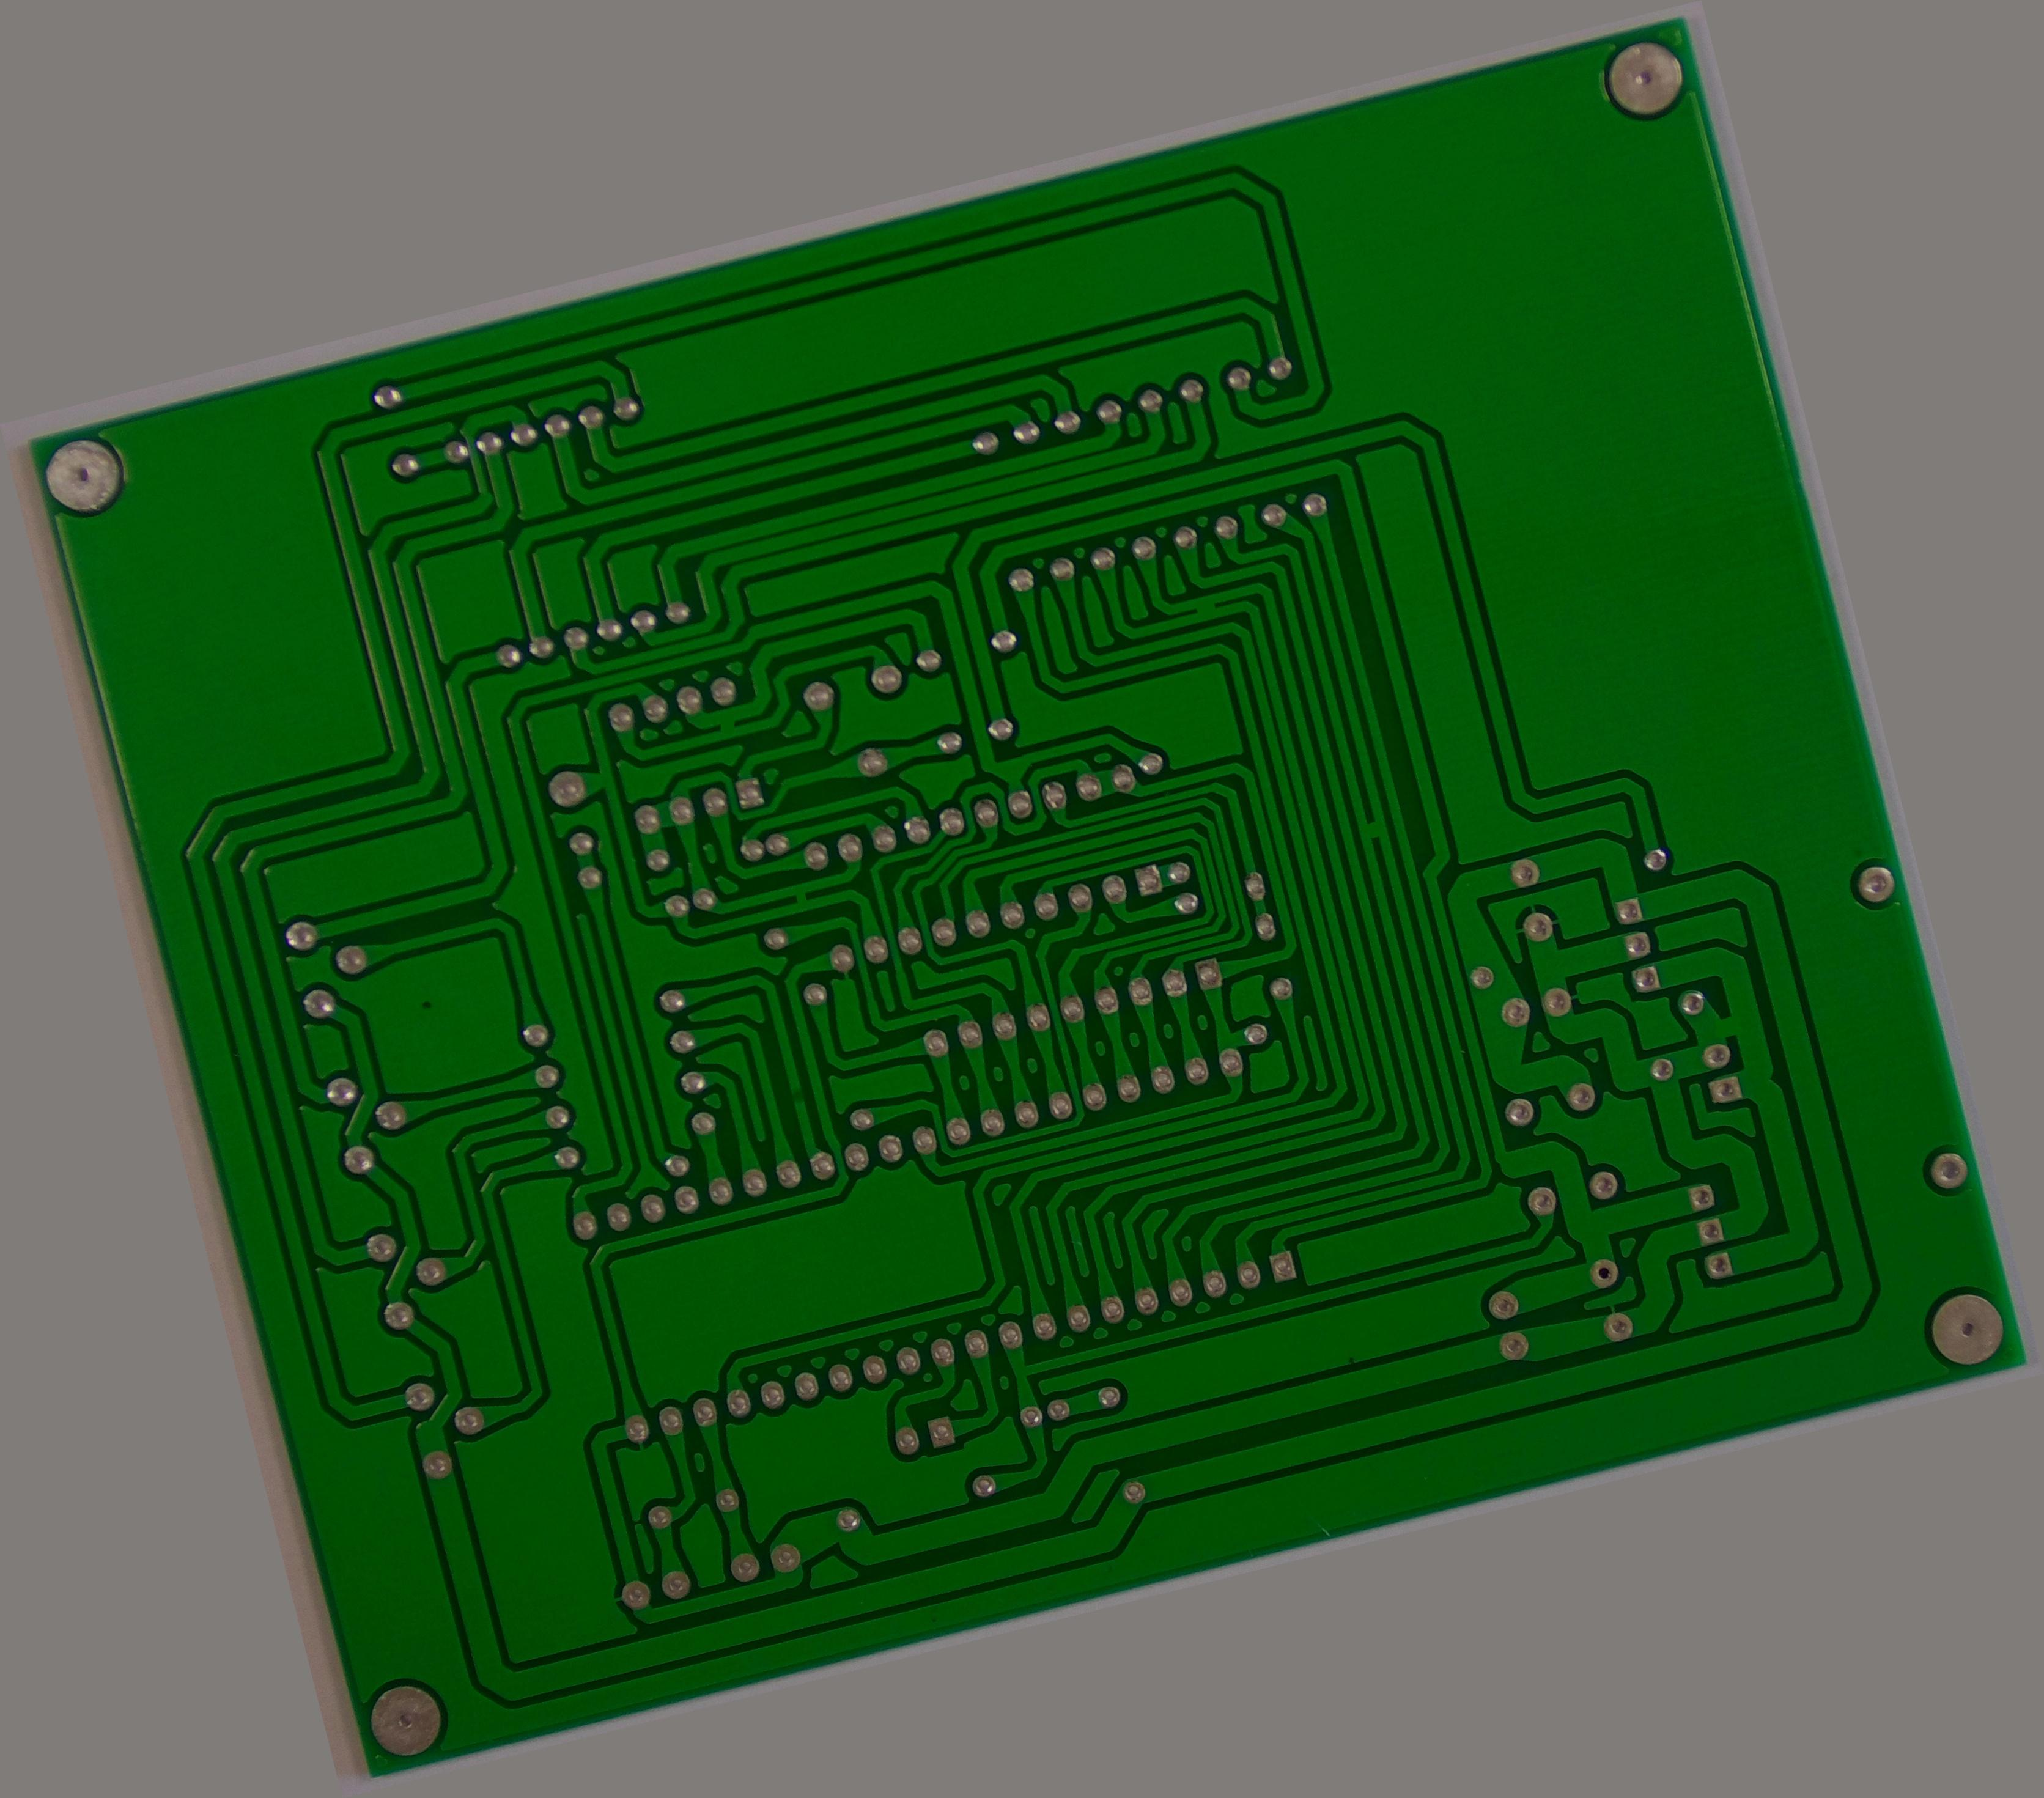short: (1696, 997, 1755, 1053), (702, 702, 749, 745), (1352, 808, 1396, 851), (1184, 587, 1227, 625), (780, 881, 820, 917)
